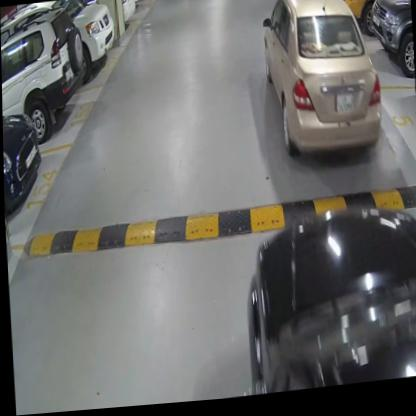np: (333, 98, 352, 121)
